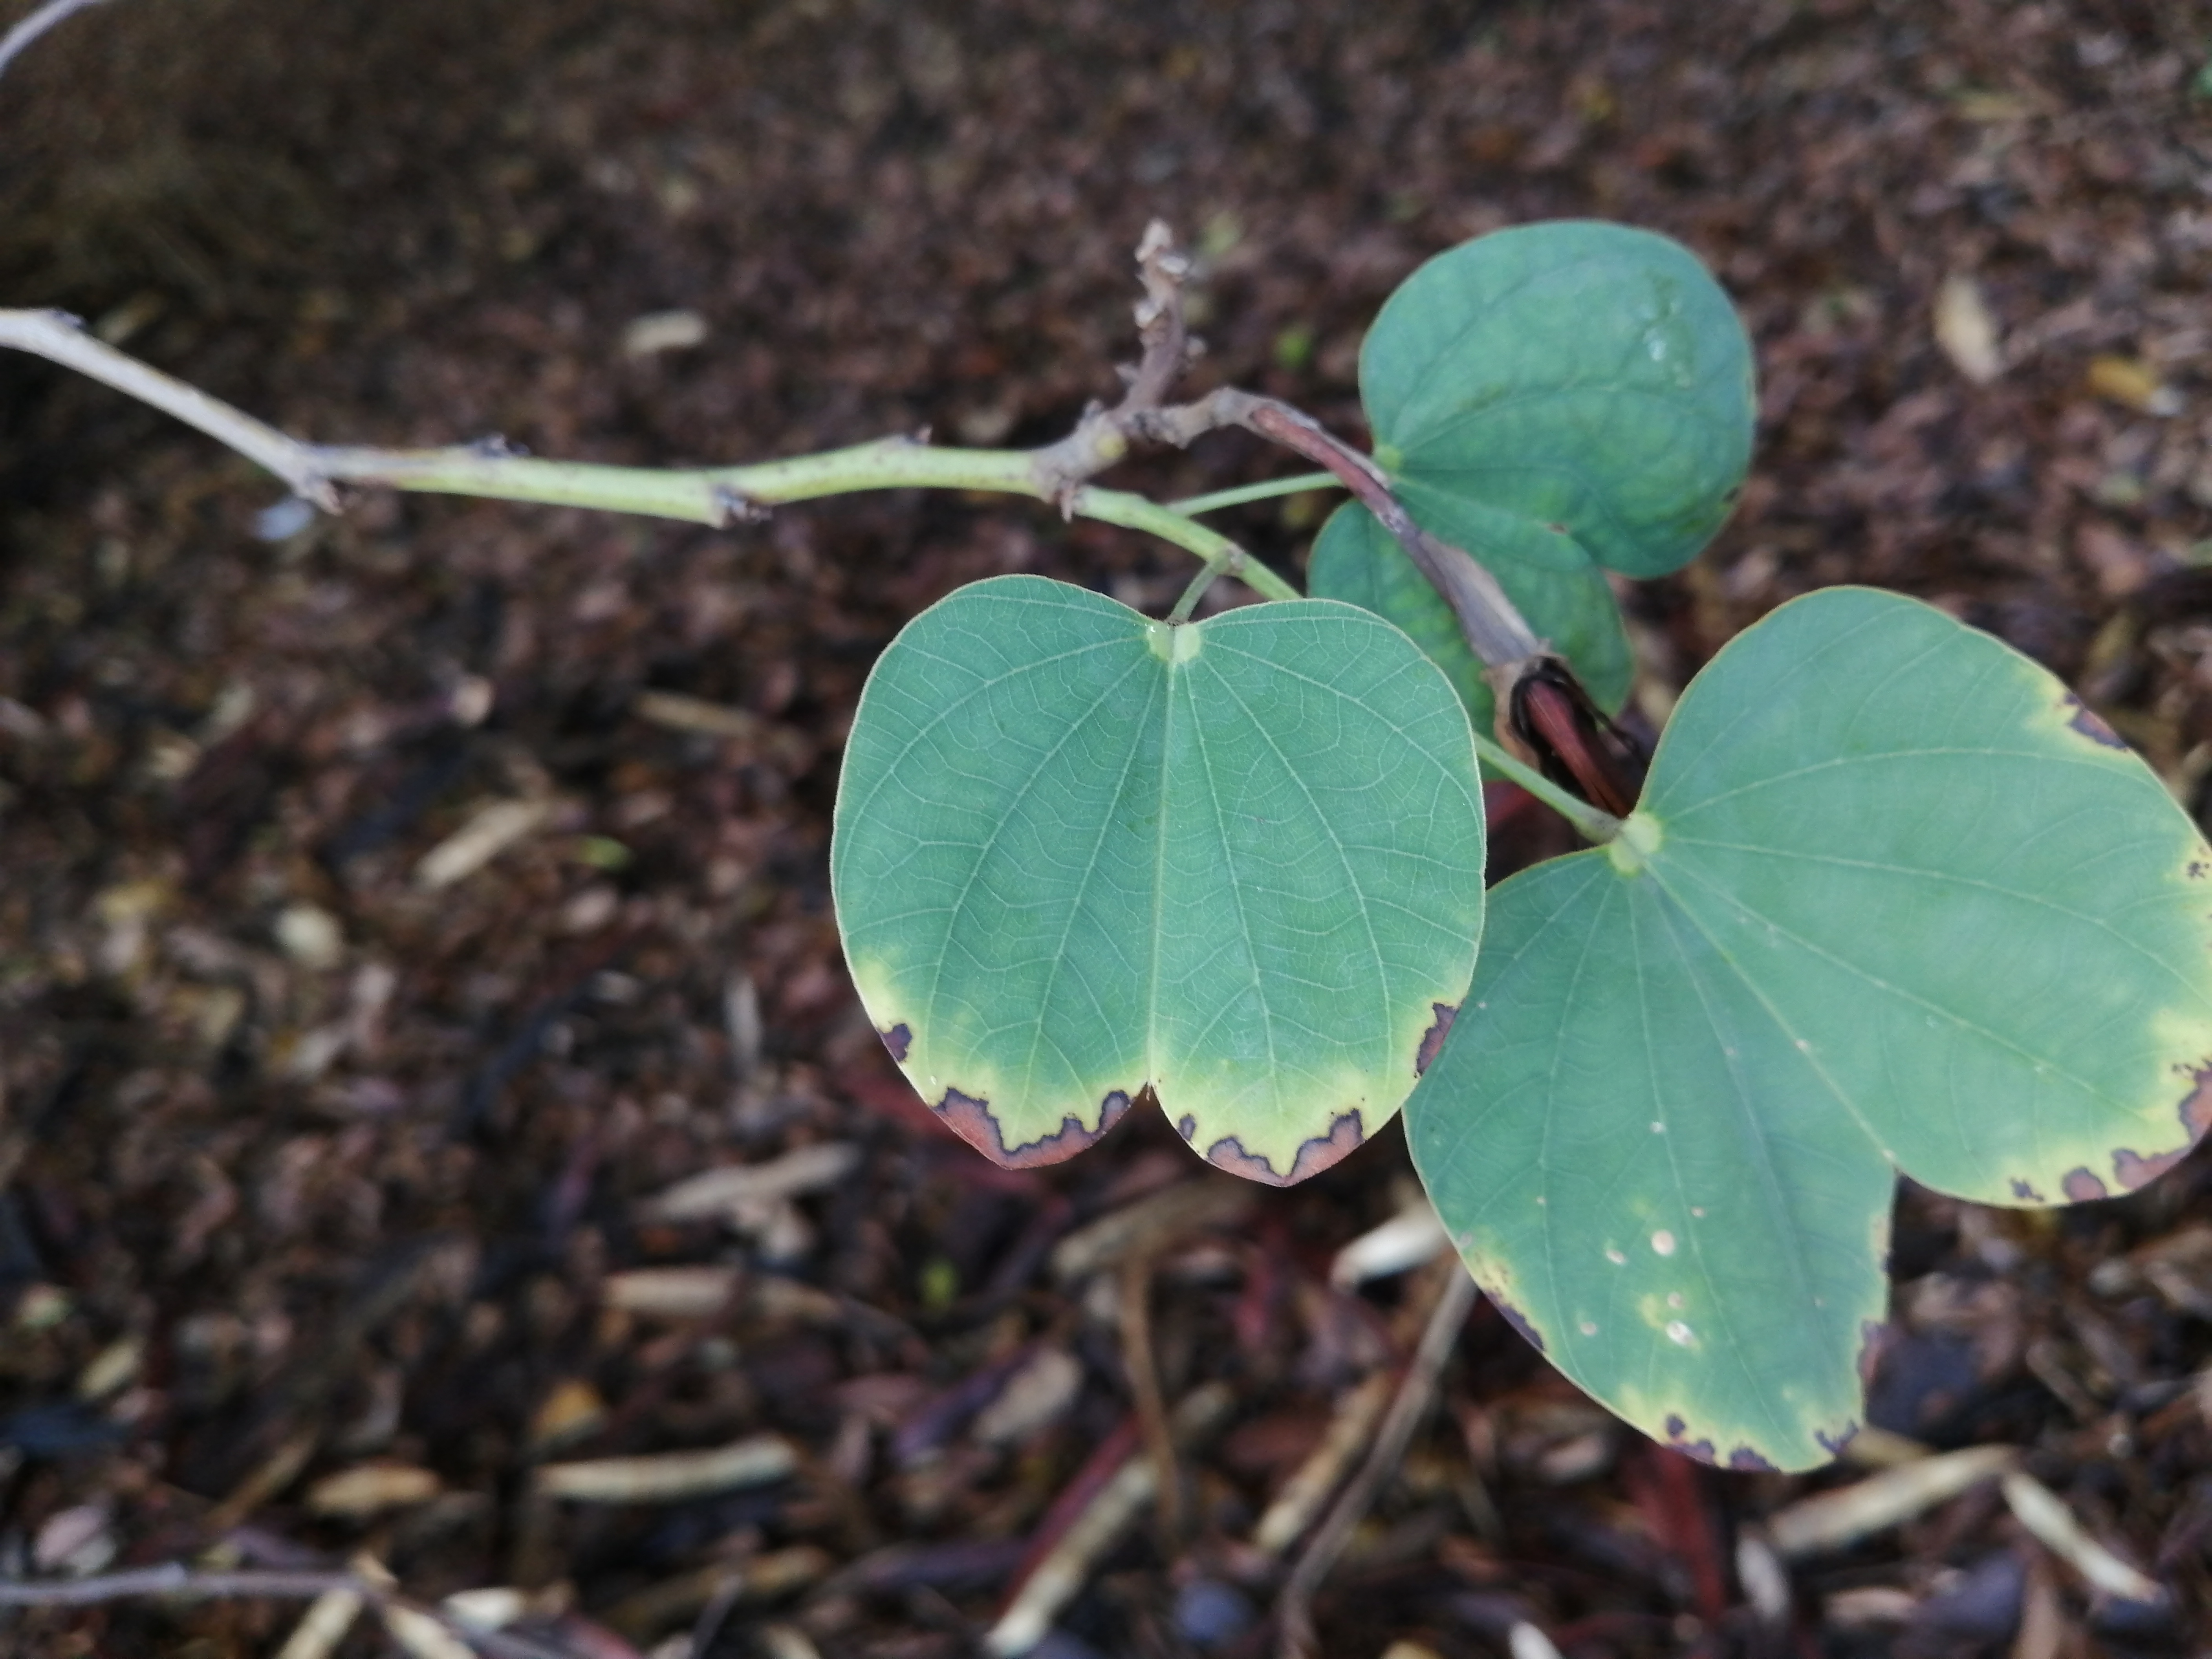nothealthy: (1305, 582, 2212, 1493), (738, 605, 1540, 1204)
